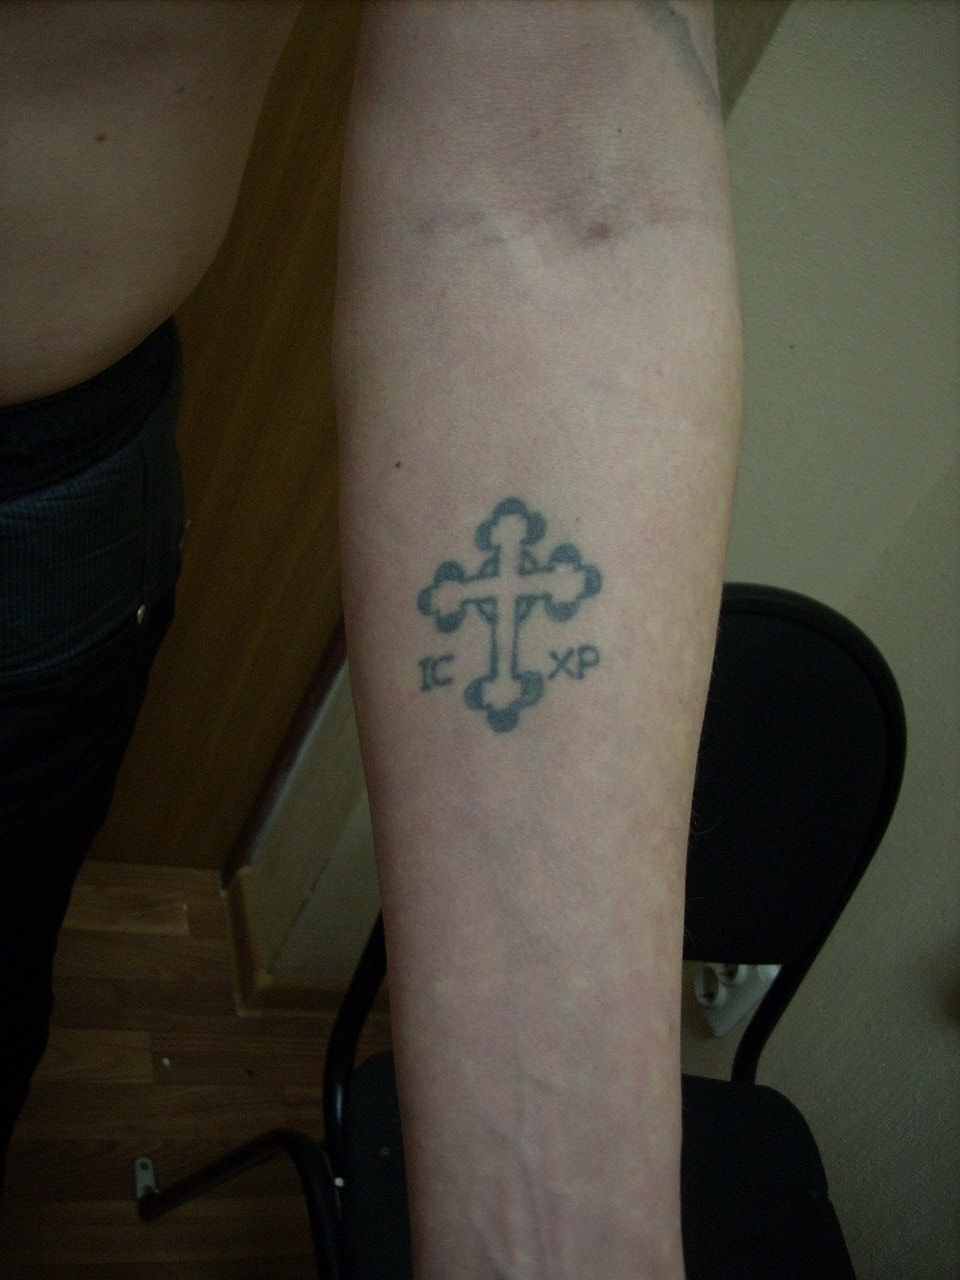tatu9_krest: (415, 466, 616, 724)
